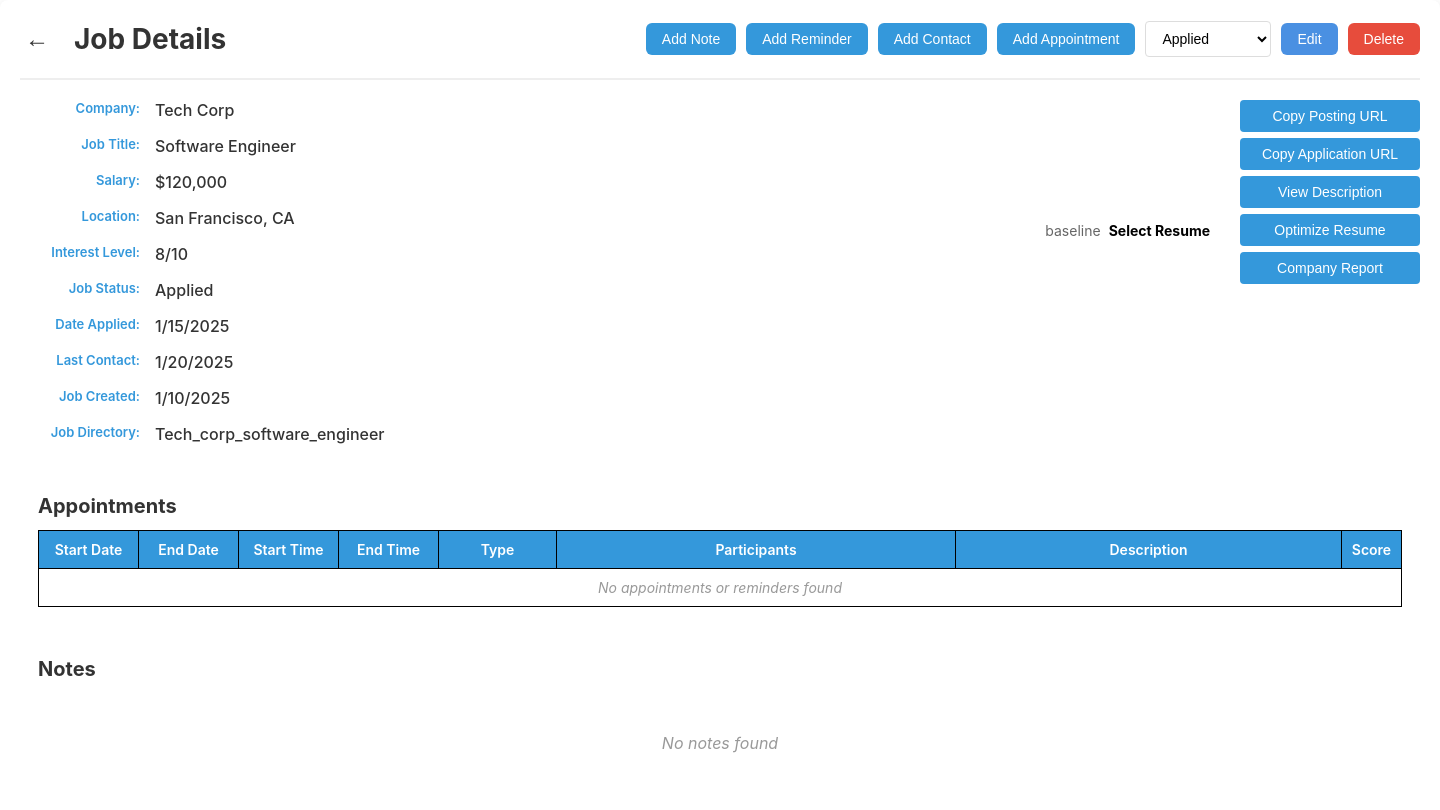
Test case: JobDetails Component › Description Modal › closes description modal
Click the button "View Description".
click(1330, 192)  # box [1240,176,1420,208]
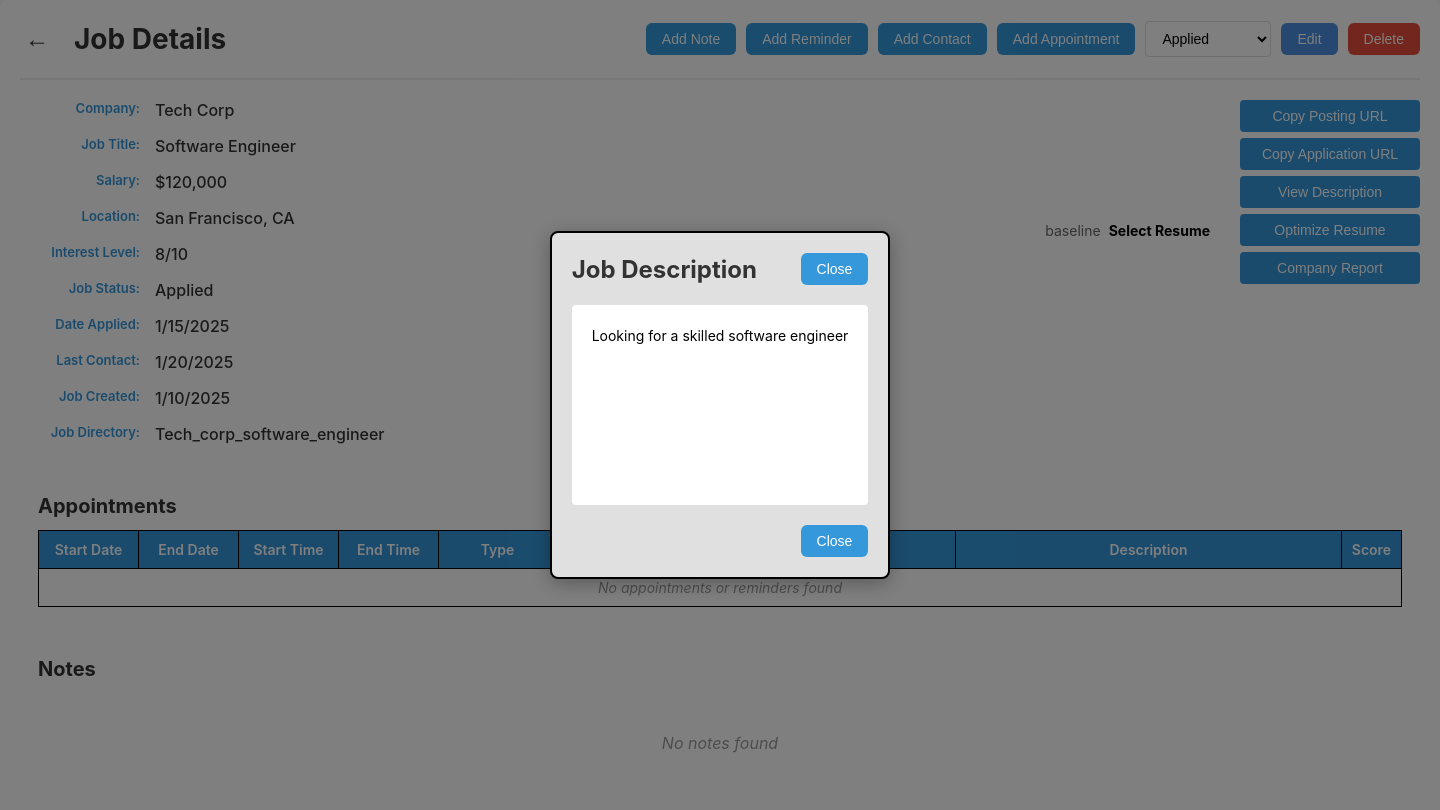
Now the heading "Job Description" is shown, box [572,254,757,284]
Click the button "Close" next to "Job Description".
click(834, 269)  # box [800,253,868,285]
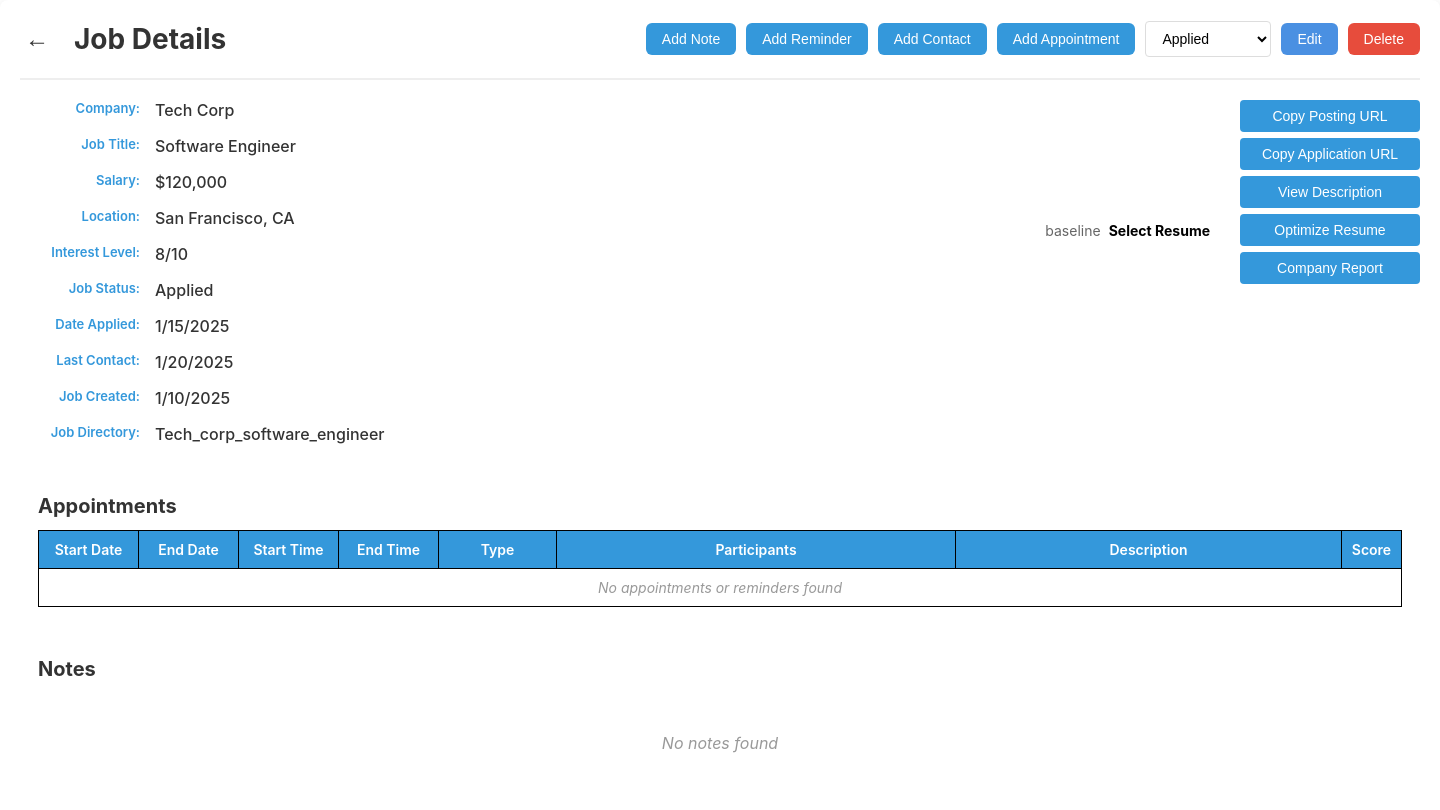
Now the heading "Job Description" is gone
